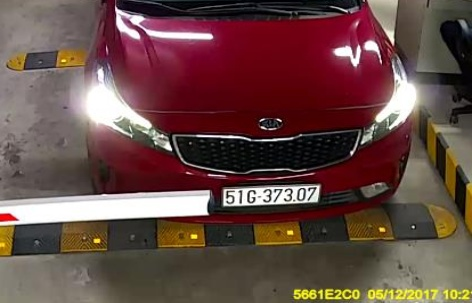plate: (208, 178, 328, 215)
